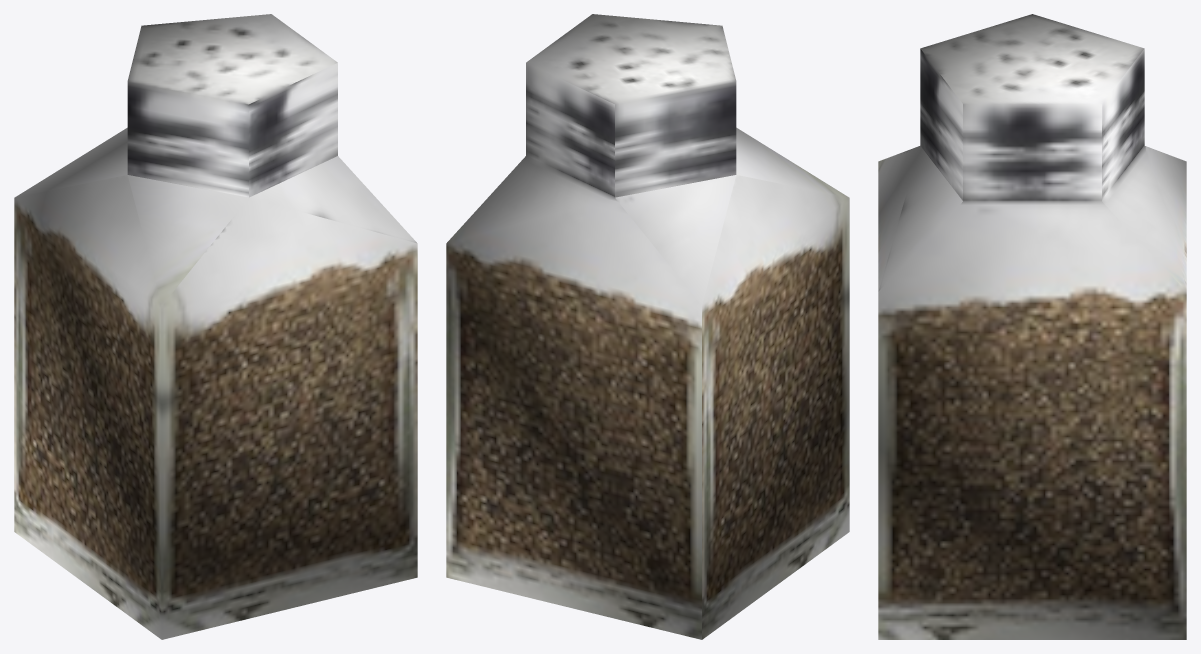
Rendered from Pepper.dae.
3 views of the same model, side by side, from view 1: azimuth 30°, elevation 25°; view 2: azimuth 150°, elevation 25°; view 3: azimuth 270°, elevation 25° (orthographic). The views are drawn at different scales.
Parts seen in each view (by area): view 1: Pepper; view 2: Pepper; view 3: Pepper.
Boxes of the visible parts, left/top/right/bottom form: Pepper: left=14, top=14, right=417, bottom=639; Pepper: left=446, top=14, right=849, bottom=639; Pepper: left=878, top=14, right=1186, bottom=639.
Size of the model in its own units: 0.0652 by 0.0652 by 0.1204.
1 material, 1 textured.
